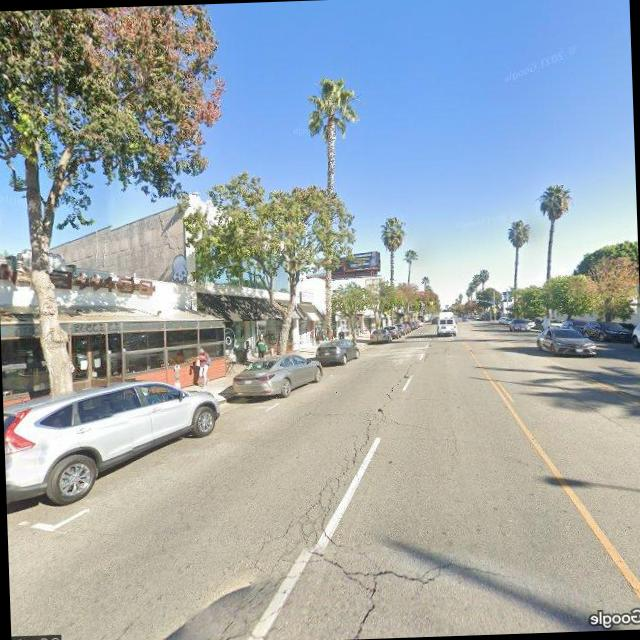crack: (187, 407, 438, 640), (382, 359, 416, 398)
